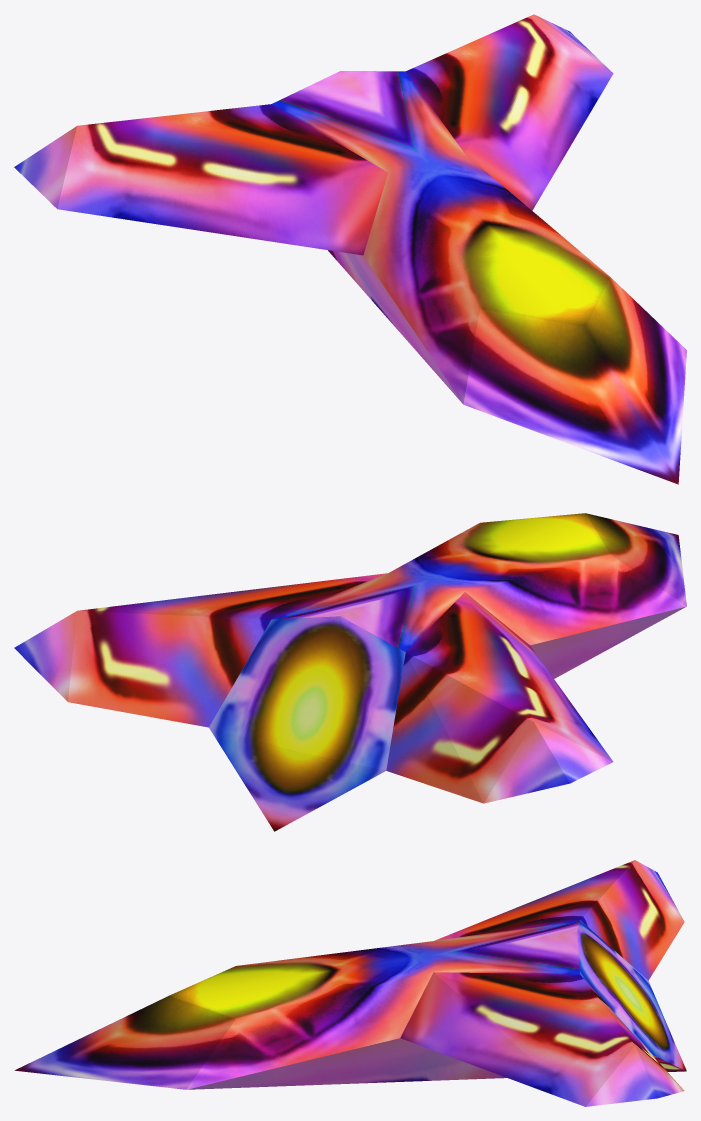
The model's file is ship-66.fbx.
3 views of the same model, one above another, from view 1: azimuth 30°, elevation 25°; view 2: azimuth 150°, elevation 25°; view 3: azimuth 270°, elevation 25° (orthographic). The views are drawn at different scales.
Parts seen in each view (by area): view 1: ship-66; view 2: ship-66; view 3: ship-66.
Boxes of the visible parts, box(x1,y1,x2,y2) form: ship-66: box(14, 14, 686, 484); ship-66: box(14, 513, 686, 831); ship-66: box(14, 860, 686, 1106).
Bounding box in the file's own units: 33.61 × 9.65 × 42.3.
